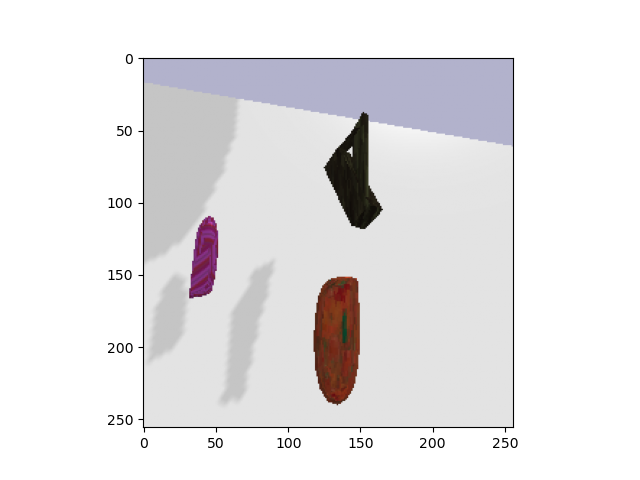v249b387_105: (188, 211, 223, 299)
v249b387_106: (307, 270, 376, 407)
v249b387_109: (318, 112, 390, 233)
